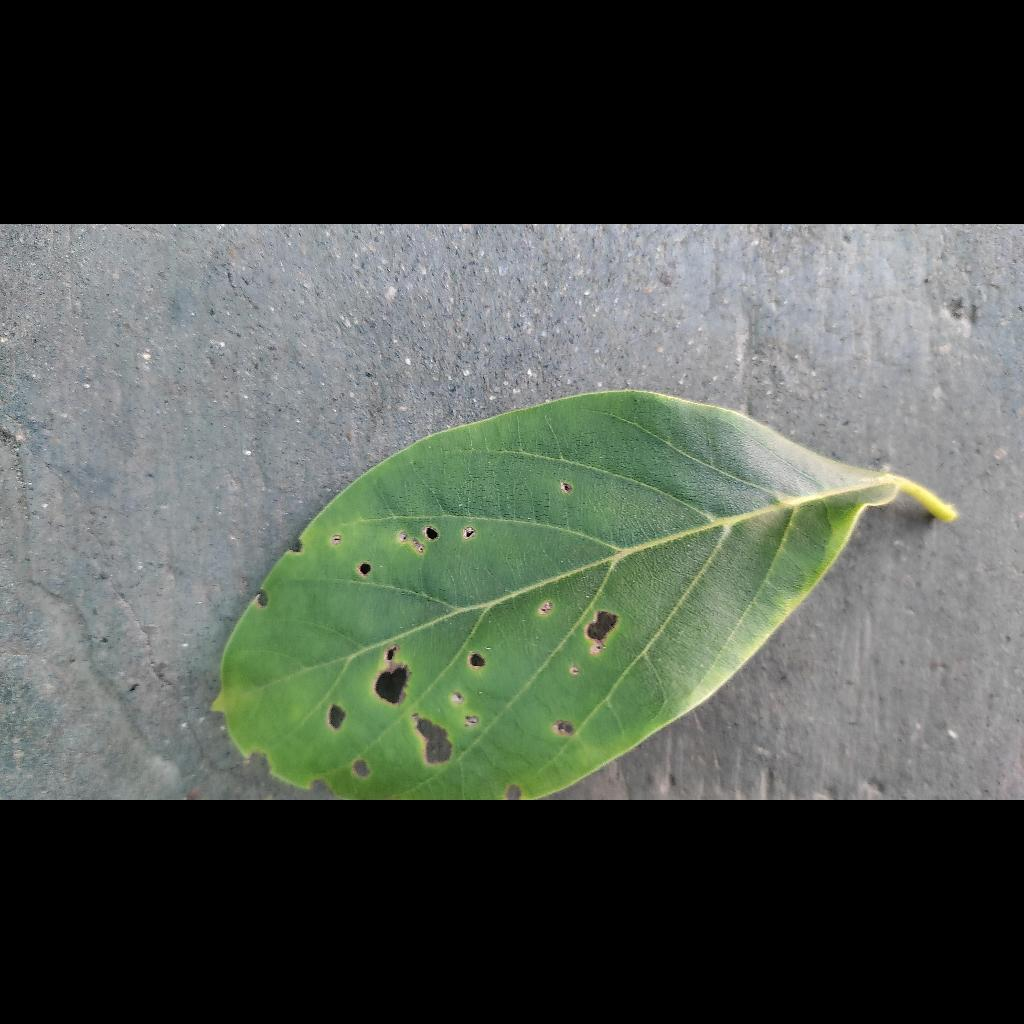Pest attack: (396, 704, 464, 774), (355, 643, 419, 709), (578, 596, 634, 660), (323, 692, 361, 746), (343, 752, 387, 786), (342, 556, 380, 584)
